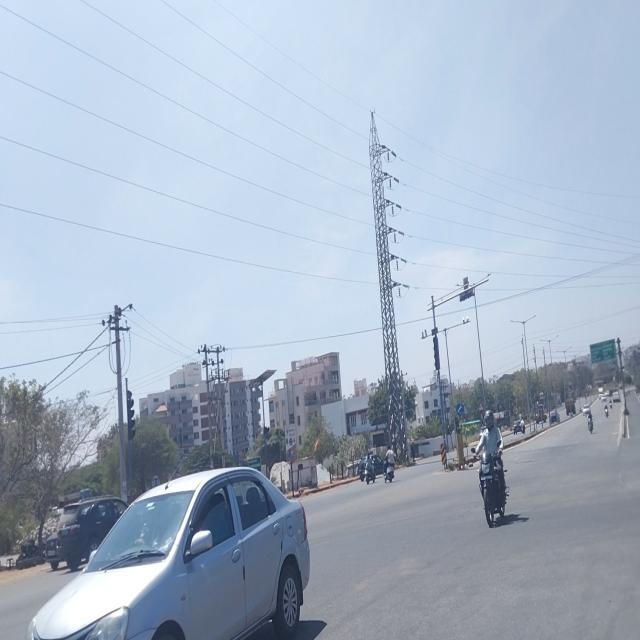bien_nguy_hiem: (456, 402, 464, 416), (478, 401, 484, 411)
